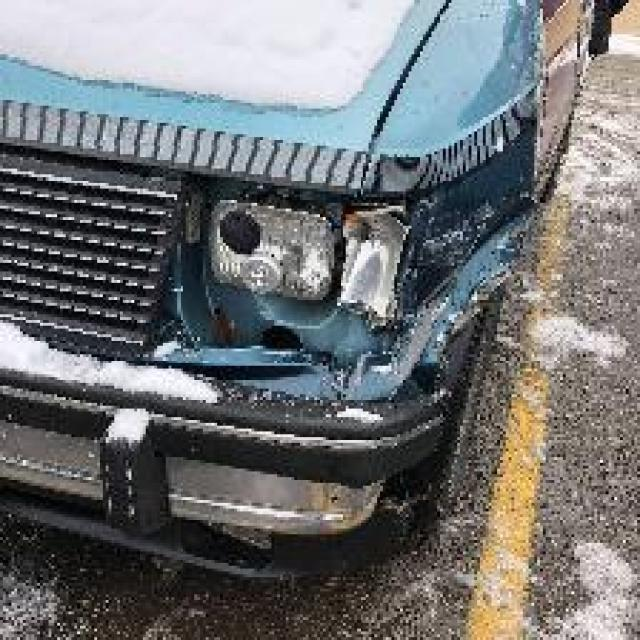damaged: (185, 168, 546, 412)
